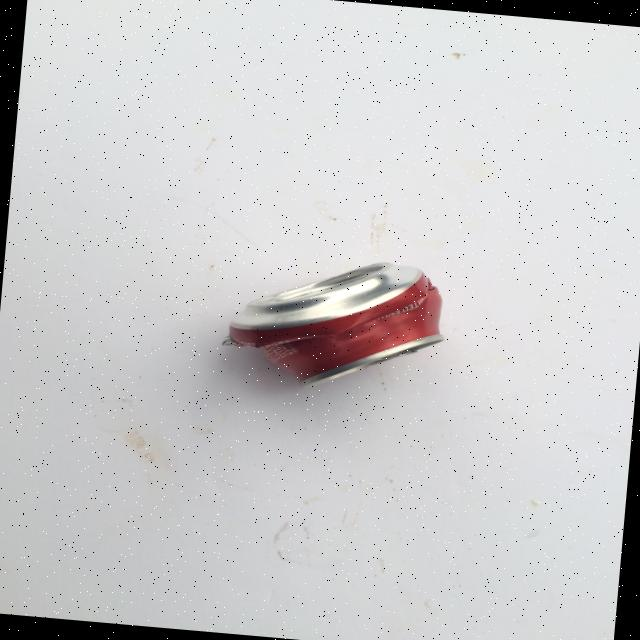metal: (219, 247, 451, 400)
